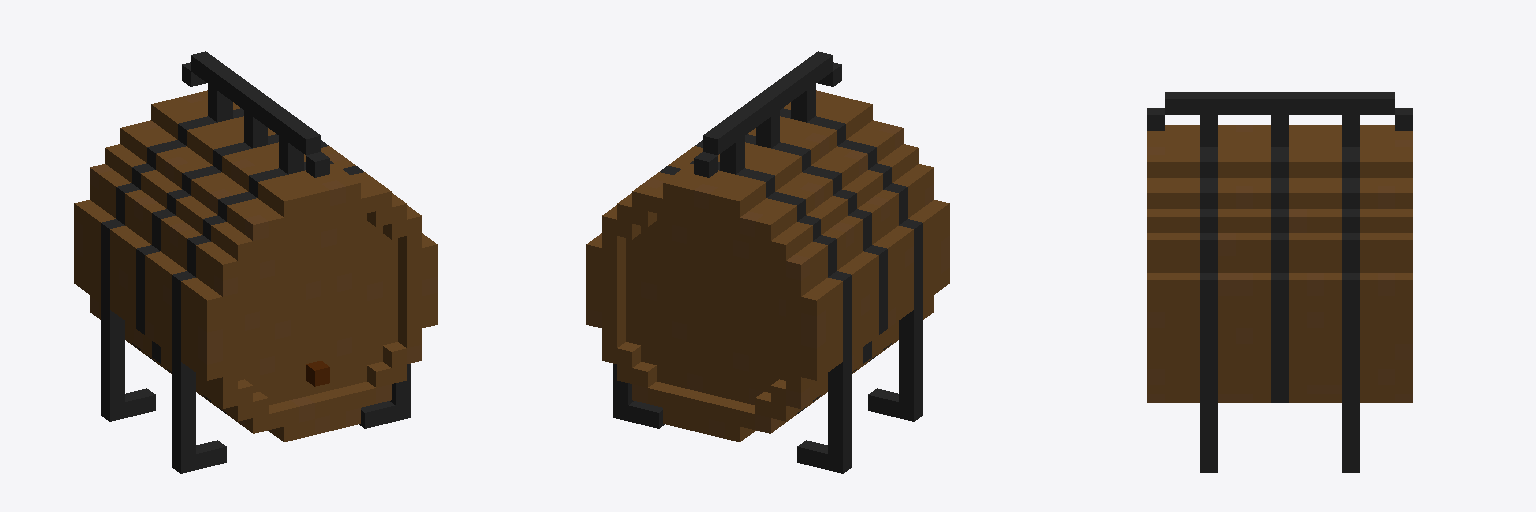
3 views of the same model, side by side, from view 1: azimuth 30°, elevation 25°; view 2: azimuth 150°, elevation 25°; view 3: azimuth 270°, elevation 25° (orthographic).
Visible parts, largest first — view 1: object 1; view 2: object 1; view 3: object 1.
Boxes of the visible parts, x1,y1,x2,y2 form: object 1: [74, 51, 437, 473]; object 1: [586, 51, 949, 473]; object 1: [1147, 92, 1412, 472].
Size of the model in its own units: 1.5 by 2 by 1.5.
1 materials, 1 textured.